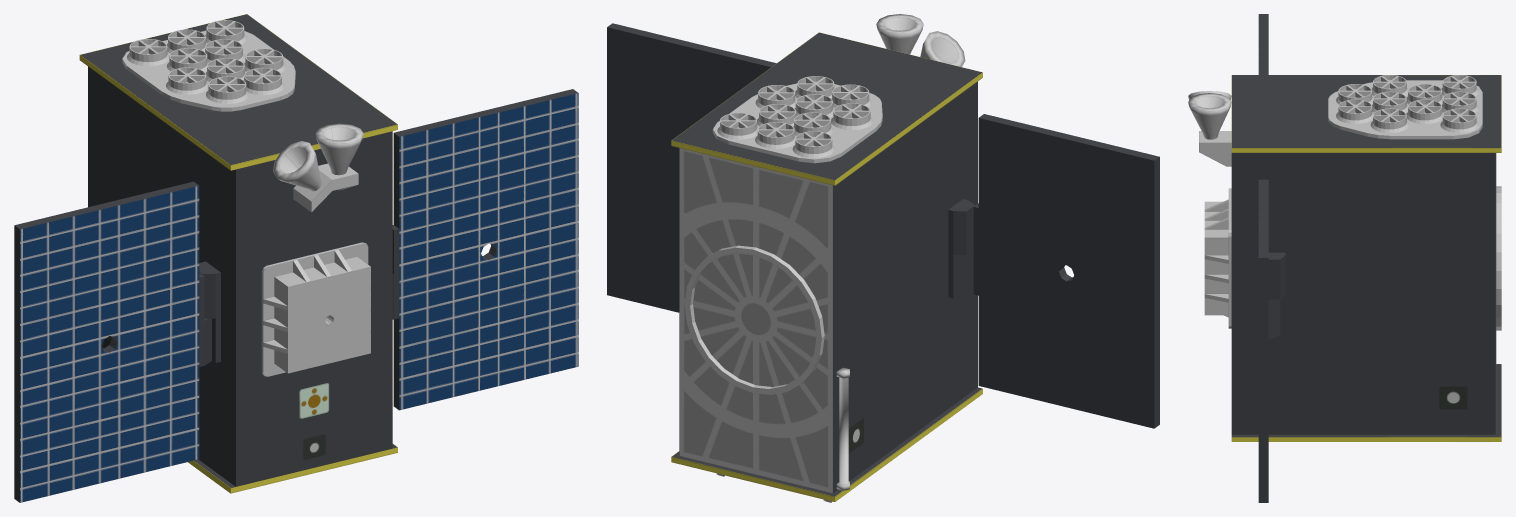
File: NebulaXplorer.glb
The picture shows the model from 3 angles, left to right: view 1: azimuth 30°, elevation 25°; view 2: azimuth 150°, elevation 25°; view 3: azimuth 270°, elevation 25°; orthographic projection. The views are drawn at different scales.
Parts seen in each view (by area): view 1: Solar Panels, Body, Propulsion Module, Thingies, Star Tracker Module, Plate, Hinges, Star Tracker Module Bracket; view 2: Body, Solar Panels, Thingies, Circle, Hinges, Plate, Star Tracker Module, Magnetorquers; view 3: Body, Thingies, Solar Panels, Propulsion Module, Plate, Hinges, Star Tracker Module, Star Tracker Module Bracket, Circle.
Boxes of the visible parts, x1=… form: Solar Panels: x1=14, y1=89, x2=578, y2=502; Body: x1=79, y1=14, x2=397, y2=493; Propulsion Module: x1=261, y1=242, x2=370, y2=376; Thingies: x1=127, y1=20, x2=285, y2=103; Star Tracker Module: x1=273, y1=123, x2=363, y2=191; Plate: x1=122, y1=30, x2=295, y2=111; Hinges: x1=199, y1=225, x2=399, y2=366; Star Tracker Module Bracket: x1=293, y1=163, x2=358, y2=212; Body: x1=671, y1=32, x2=982, y2=501; Solar Panels: x1=607, y1=23, x2=1159, y2=428; Thingies: x1=717, y1=76, x2=873, y2=158; Circle: x1=684, y1=245, x2=824, y2=394; Hinges: x1=948, y1=199, x2=978, y2=298; Plate: x1=712, y1=83, x2=882, y2=163; Star Tracker Module: x1=876, y1=14, x2=965, y2=66; Magnetorquers: x1=716, y1=367, x2=849, y2=502; Body: x1=1231, y1=75, x2=1501, y2=441; Thingies: x1=1336, y1=75, x2=1478, y2=132; Solar Panels: x1=1258, y1=14, x2=1268, y2=502; Propulsion Module: x1=1204, y1=188, x2=1231, y2=328; Plate: x1=1328, y1=80, x2=1482, y2=139; Hinges: x1=1268, y1=252, x2=1285, y2=339; Star Tracker Module: x1=1188, y1=91, x2=1231, y2=139; Star Tracker Module Bracket: x1=1199, y1=131, x2=1231, y2=166; Circle: x1=1496, y1=186, x2=1501, y2=330.
Bounding box in the file's own units: 10.68 × 6.52 × 5.8.
Materials: 2 (2 with a texture image).
